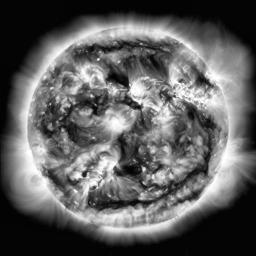solar flares: (101, 108, 138, 128), (93, 150, 113, 183), (79, 68, 107, 87), (178, 81, 205, 100), (129, 84, 157, 102), (68, 156, 87, 180), (152, 106, 173, 125)
sunspots: (81, 41, 170, 53), (93, 190, 148, 209), (121, 153, 139, 175), (40, 116, 57, 137), (73, 97, 97, 111), (47, 169, 68, 185), (145, 58, 165, 74), (197, 154, 212, 175), (64, 121, 81, 139), (116, 137, 130, 153), (108, 71, 125, 83), (194, 73, 208, 86), (185, 107, 199, 119), (203, 119, 214, 130)
